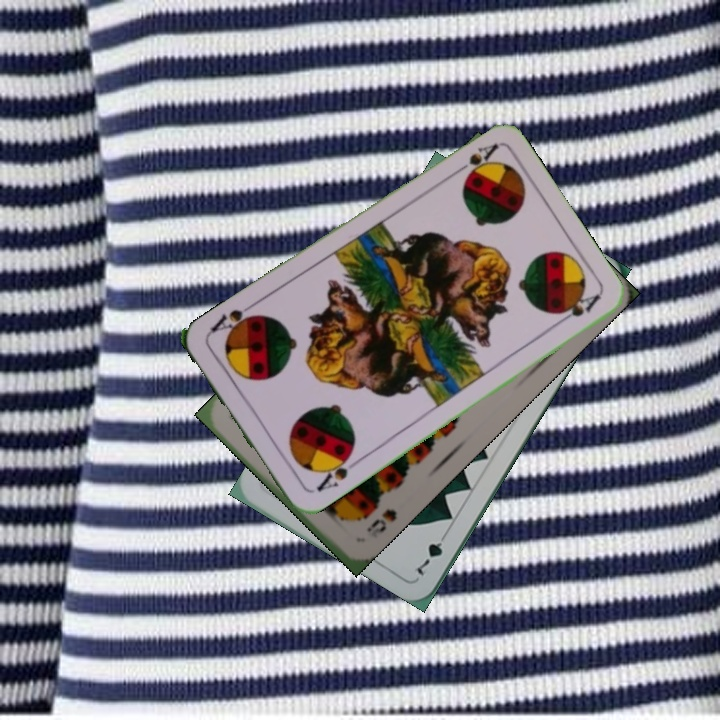G7: (412, 526, 452, 579)
S8: (362, 504, 399, 541)
SA: (312, 448, 361, 495), (447, 139, 501, 181)
